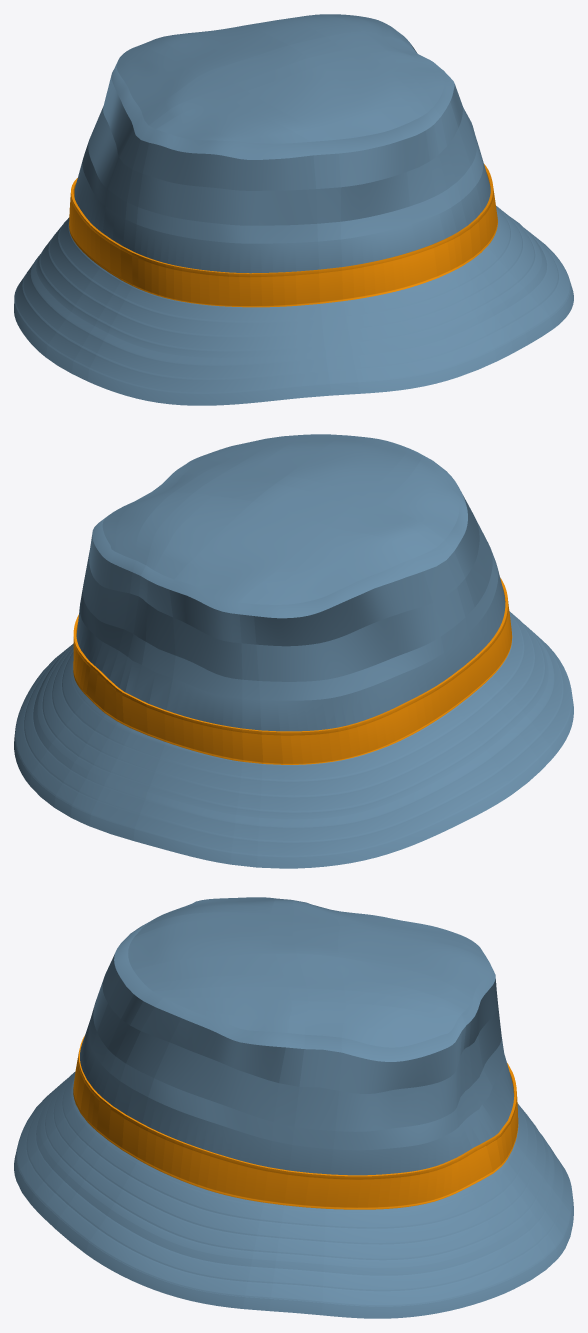
File: Fisherman_Hat.fbx
3 views of the same model, one above another, from view 1: azimuth 30°, elevation 25°; view 2: azimuth 150°, elevation 25°; view 3: azimuth 270°, elevation 25° (orthographic). The views are drawn at different scales.
Visible parts, largest first — view 1: fisherman_hat; view 2: fisherman_hat; view 3: fisherman_hat.
Part boxes in pixels (box(x1,y1,x2,y2)): fisherman_hat: box(14, 14, 573, 405); fisherman_hat: box(14, 434, 573, 868); fisherman_hat: box(14, 897, 573, 1318).
Bounding box in the file's own units: 65.72 × 35.05 × 65.58.
1 material, 1 textured.
